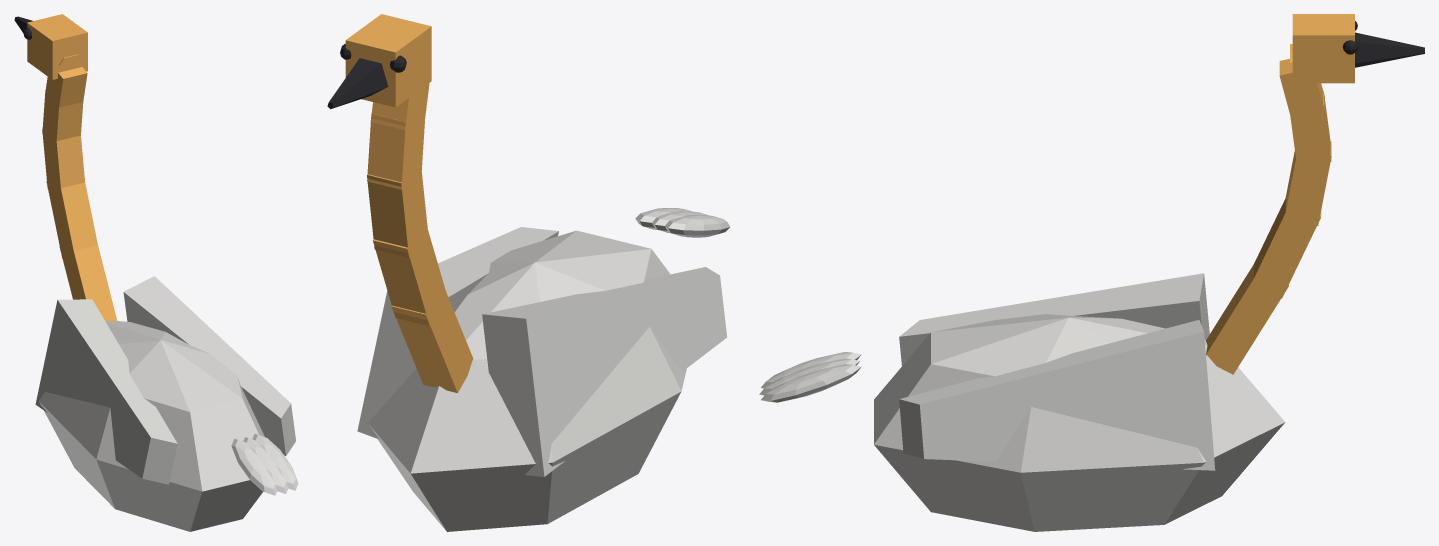
Rendered from swan_style0.glb.
3 views of the same model, side by side, from view 1: azimuth 30°, elevation 25°; view 2: azimuth 150°, elevation 25°; view 3: azimuth 270°, elevation 25° (orthographic). The views are drawn at different scales.
Parts seen in each view (by area): view 1: Body, NeckHead, WingR, WingL, TailFan; view 2: Body, WingR, NeckHead, WingL, TailFan; view 3: Body, WingL, NeckHead, WingR, TailFan.
Boxes of the visible parts, x1=… form: Body: x1=39, y1=321, x2=264, y2=531; NeckHead: x1=14, y1=14, x2=117, y2=321; WingR: x1=35, y1=299, x2=177, y2=484; WingL: x1=123, y1=276, x2=295, y2=455; TailFan: x1=231, y1=434, x2=298, y2=495; Body: x1=368, y1=230, x2=686, y2=531; WingR: x1=482, y1=267, x2=727, y2=476; NeckHead: x1=327, y1=14, x2=473, y2=392; WingL: x1=357, y1=227, x2=558, y2=439; TailFan: x1=635, y1=208, x2=730, y2=237; Body: x1=874, y1=314, x2=1285, y2=531; WingL: x1=899, y1=320, x2=1215, y2=470; NeckHead: x1=1206, y1=14, x2=1424, y2=374; WingR: x1=899, y1=273, x2=1209, y2=365; TailFan: x1=759, y1=352, x2=861, y2=402.
Size of the model in its own units: 0.5347 by 1.24 by 1.49.
